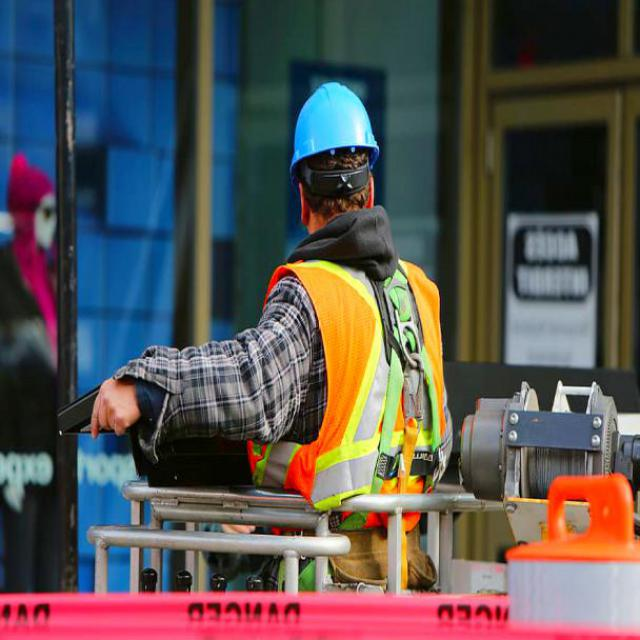helmet: (289, 47, 392, 236)
vest: (254, 232, 474, 525)
